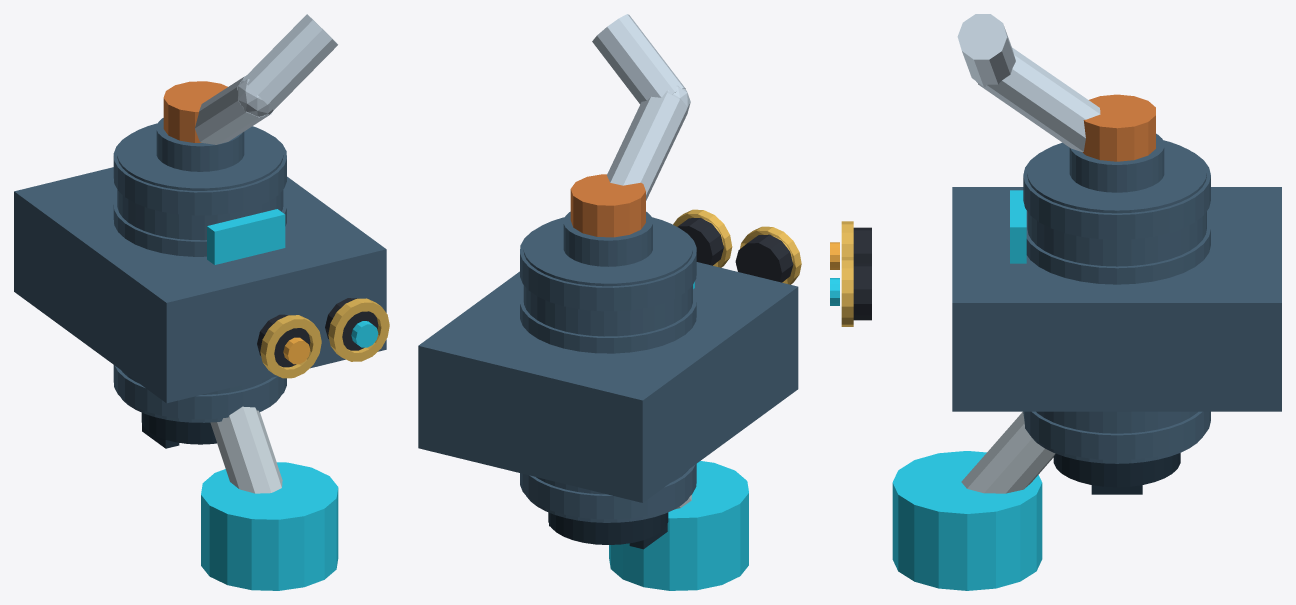
Rendered from 28_L82_NearFieldScannerZLift.fbx.
The picture shows the model from 3 angles, left to right: view 1: azimuth 30°, elevation 25°; view 2: azimuth 150°, elevation 25°; view 3: azimuth 270°, elevation 25°; orthographic projection. The views are drawn at different scales.
Visible parts, largest first — view 1: NearFieldScannerZLift_Part_0026, NearFieldScannerZLift, NearFieldScannerZLift_Part_0028, NearFieldScannerZLift_Part_0027; view 2: NearFieldScannerZLift_Part_0026, NearFieldScannerZLift, NearFieldScannerZLift_Part_0028; view 3: NearFieldScannerZLift_Part_0026, NearFieldScannerZLift, NearFieldScannerZLift_Part_0028, NearFieldScannerZLift_Part_0027.
Part boxes in pixels (left/top/right/bottom): NearFieldScannerZLift_Part_0026: left=14, top=167, right=386, bottom=403; NearFieldScannerZLift: left=113, top=14, right=389, bottom=448; NearFieldScannerZLift_Part_0028: left=201, top=462, right=338, bottom=590; NearFieldScannerZLift_Part_0027: left=210, top=406, right=282, bottom=493; NearFieldScannerZLift_Part_0026: left=418, top=262, right=798, bottom=502; NearFieldScannerZLift: left=520, top=14, right=801, bottom=549; NearFieldScannerZLift_Part_0028: left=609, top=461, right=748, bottom=590; NearFieldScannerZLift_Part_0026: left=952, top=187, right=1281, bottom=411; NearFieldScannerZLift: left=830, top=14, right=1210, bottom=494; NearFieldScannerZLift_Part_0028: left=892, top=451, right=1042, bottom=590; NearFieldScannerZLift_Part_0027: left=961, top=412, right=1055, bottom=493.
Size of the model in its own units: 55 by 126 by 90.5.
